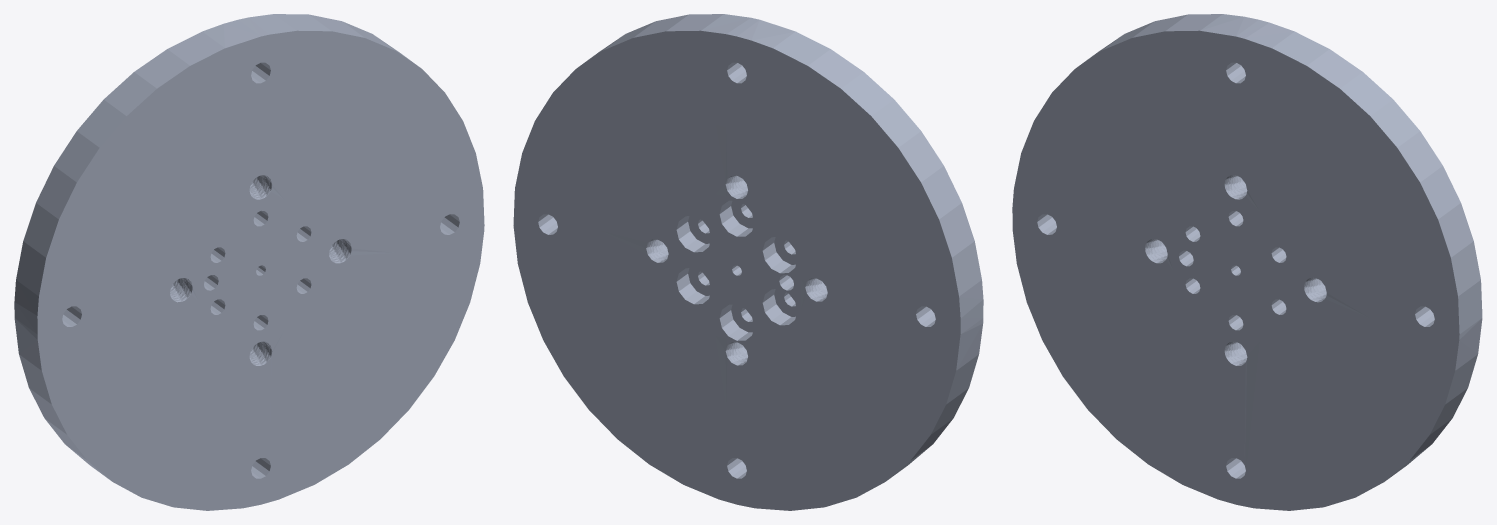
The model's file is final_7dof_assemblyLatest2_Link_7_visual_vis_1.dae.
The picture shows the model from 3 angles, left to right: view 1: azimuth 30°, elevation 25°; view 2: azimuth 150°, elevation 25°; view 3: azimuth 330°, elevation 25°; orthographic projection.
Visible parts, largest first — view 1: Node_000002187F8EF2A0; view 2: Node_000002187F8EF2A0; view 3: Node_000002187F8EF2A0.
Boxes of the visible parts, box(x1,y1,x2,y2) form: Node_000002187F8EF2A0: box(14, 14, 484, 510); Node_000002187F8EF2A0: box(513, 14, 983, 510); Node_000002187F8EF2A0: box(1012, 14, 1482, 510).
Size of the model in its own units: 0.0899 by 0.09 by 0.008.
